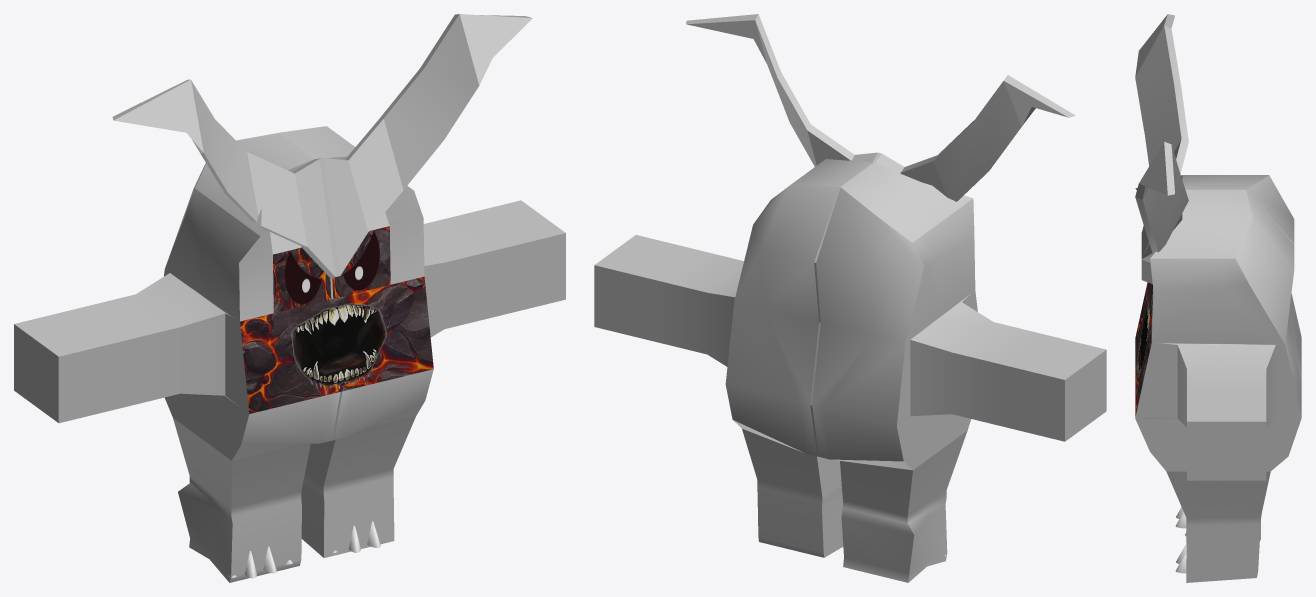
File: demon.fbx
The picture shows the model from 3 angles, left to right: view 1: azimuth 30°, elevation 25°; view 2: azimuth 150°, elevation 25°; view 3: azimuth 270°, elevation 25°; orthographic projection. The views are drawn at different scales.
Parts seen in each view (by area): view 1: pCube3; view 2: pCube3; view 3: pCube3.
Boxes of the visible parts, left/top/right/bottom form: pCube3: left=14, top=14, right=565, bottom=582; pCube3: left=594, top=14, right=1106, bottom=582; pCube3: left=1135, top=14, right=1301, bottom=582.
Bounding box in the file's own units: 10.8 × 10.71 × 3.46.
